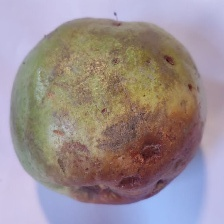guava: (57, 29, 212, 195)
